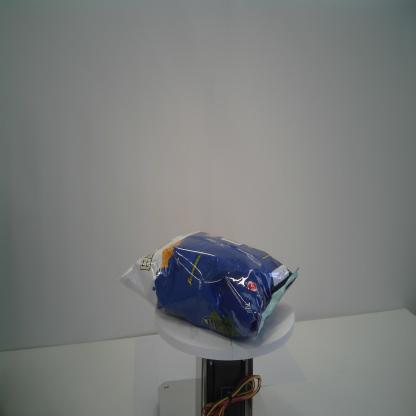Puffed Food: (112, 230, 300, 340)
